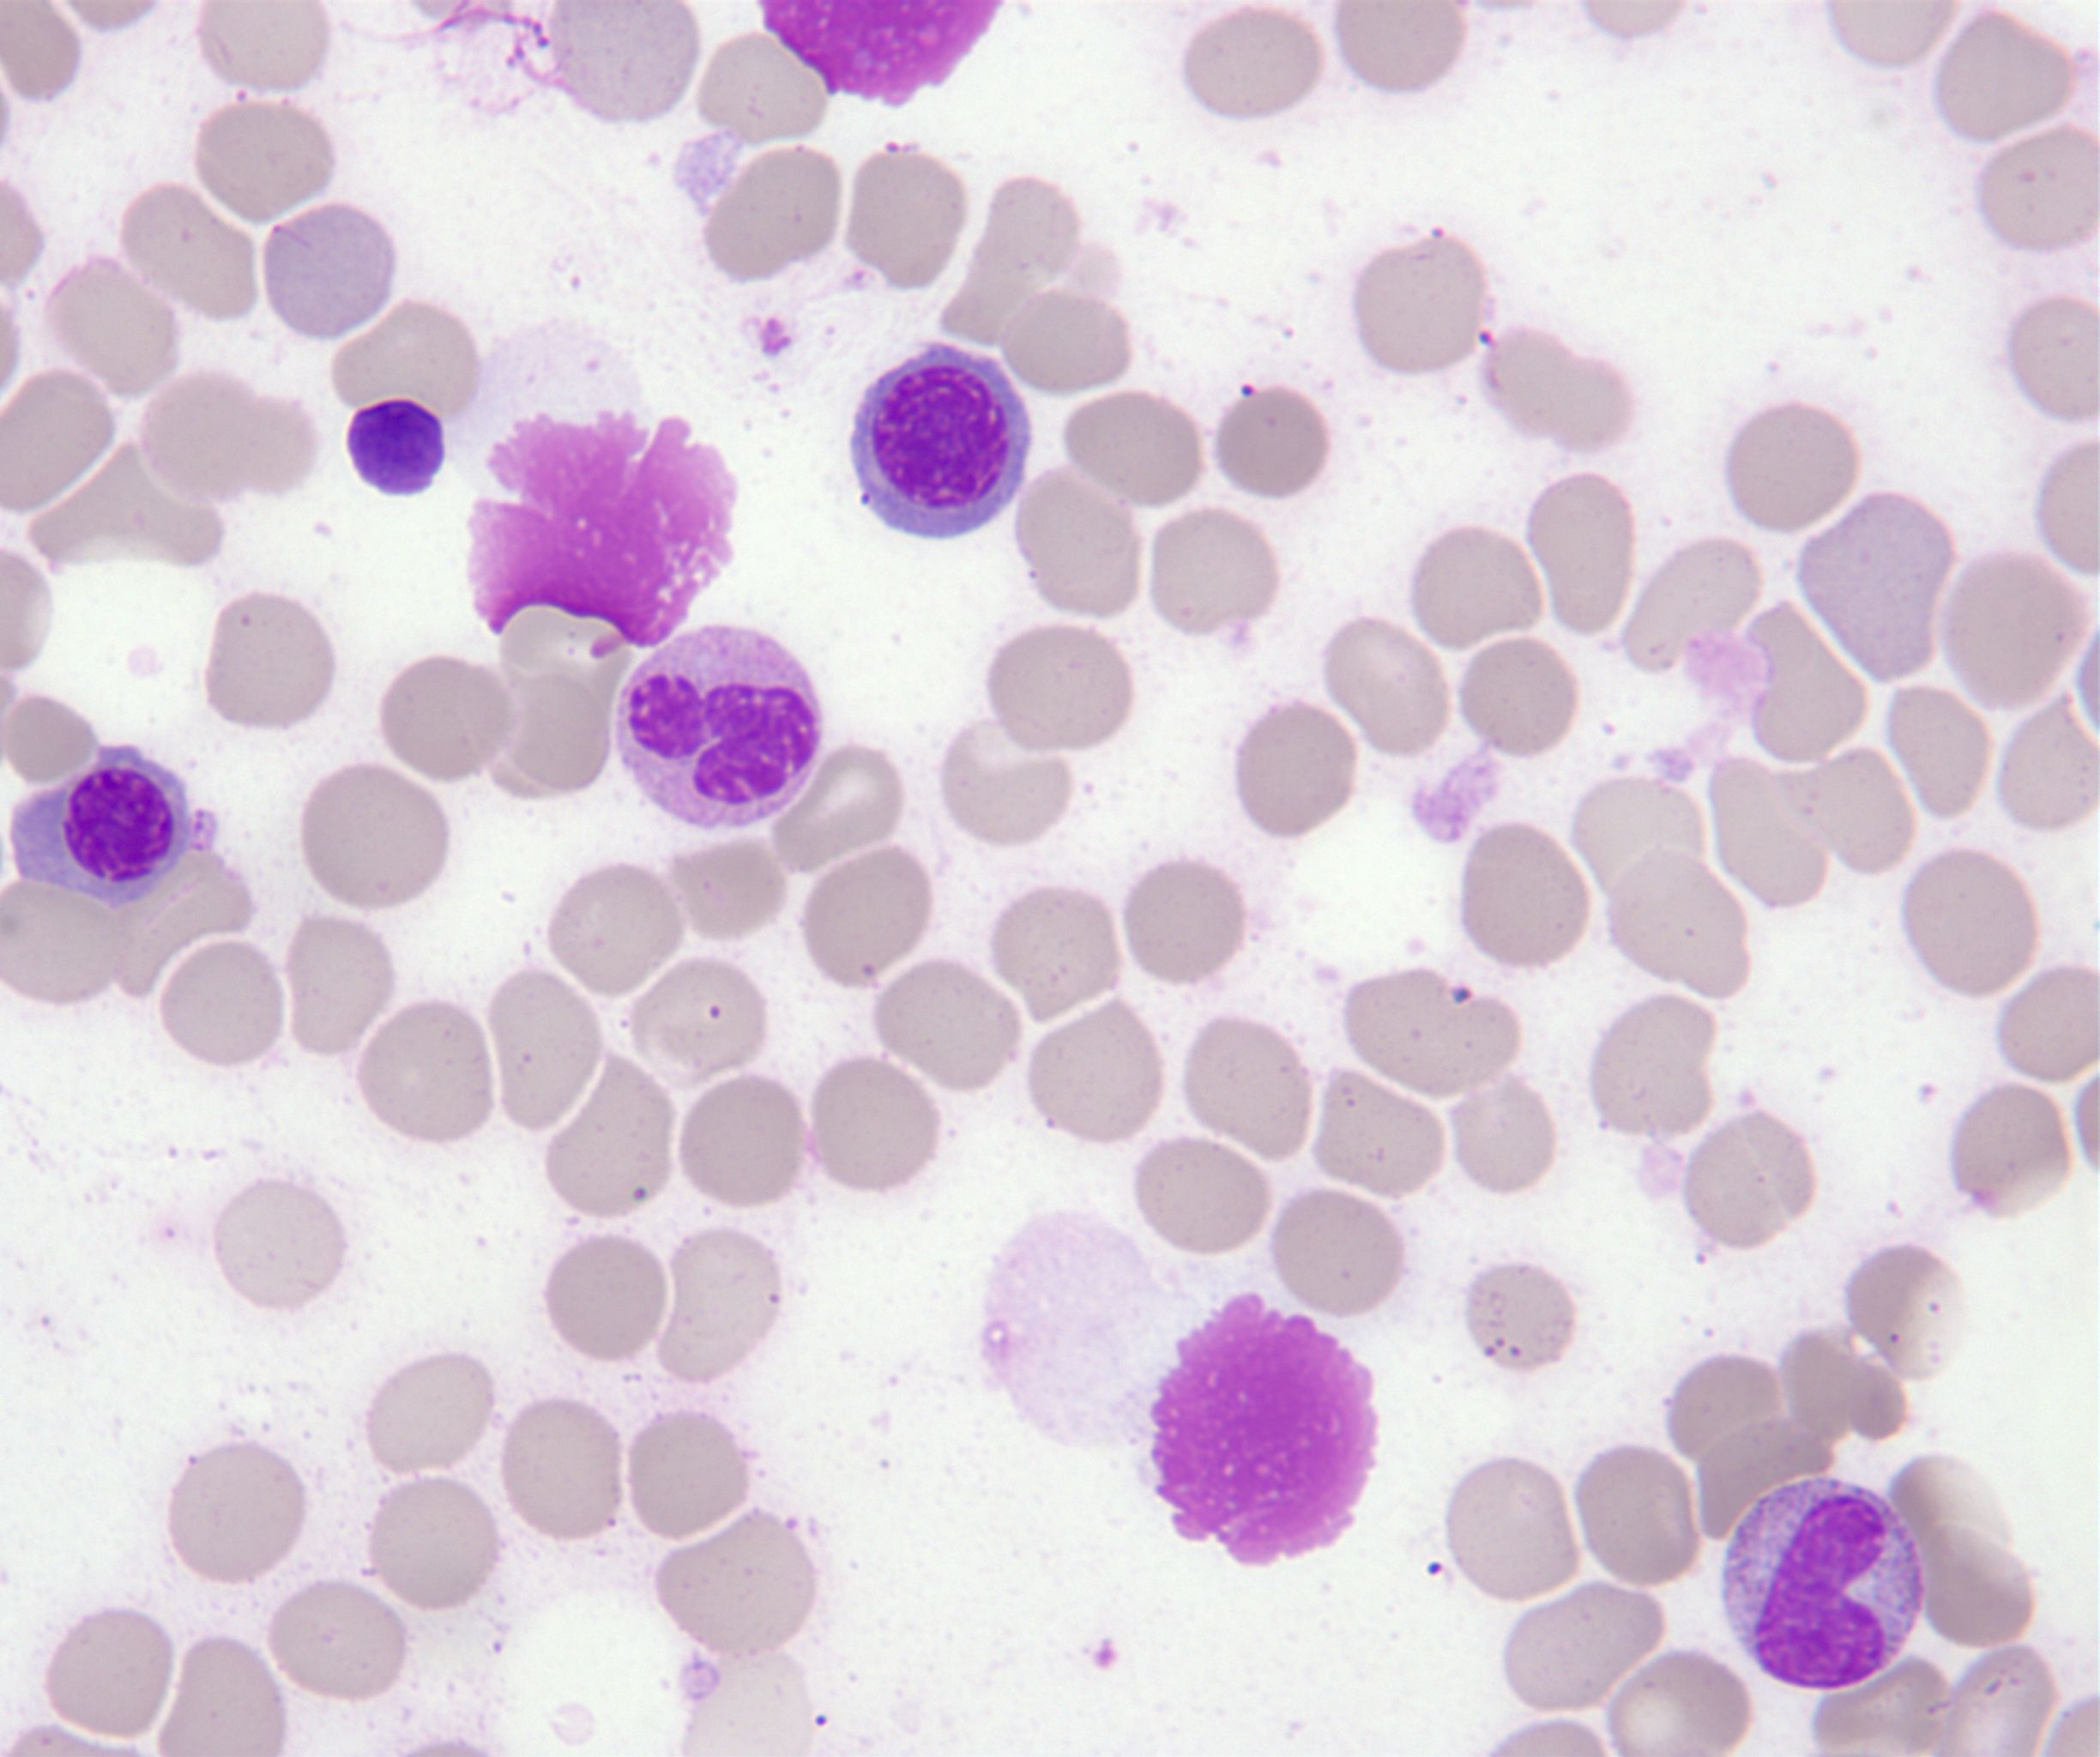23: (853, 340, 1027, 539), (7, 743, 187, 911)
5: (1725, 1480, 1926, 1691)
6: (612, 628, 822, 827)
x: (469, 412, 733, 651), (1153, 1293, 1378, 1565), (764, 2, 996, 106), (351, 401, 445, 490)
